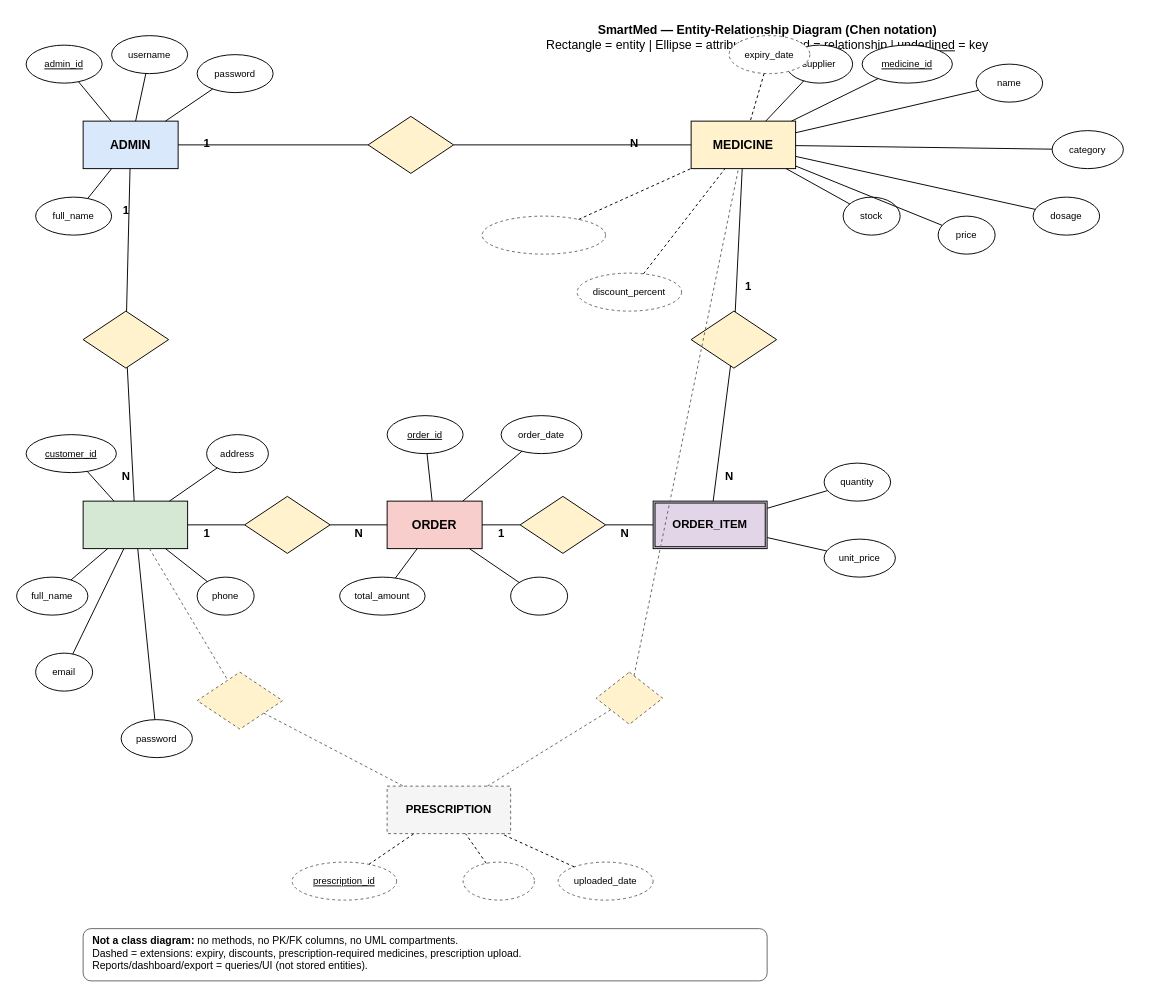
The diagram is 1164 pixels wide and 998 high, and some of its shapes have lost their labels. The shapes that lost their labels are listed below. From the top down, each one's centre as x and y in pixels, then its label:
At point 410,144: "Manages".
At point 543,234: "requires_prescription".
At point 125,339: "Updates".
At point 733,339: "Includes".
At point 135,524: "CUSTOMER".
At point 287,524: "Places".
At point 562,524: "Contains".
At point 539,595: "status".
At point 239,700: "Uploads".
At point 629,697: "For".
At point 498,880: "file_path".
